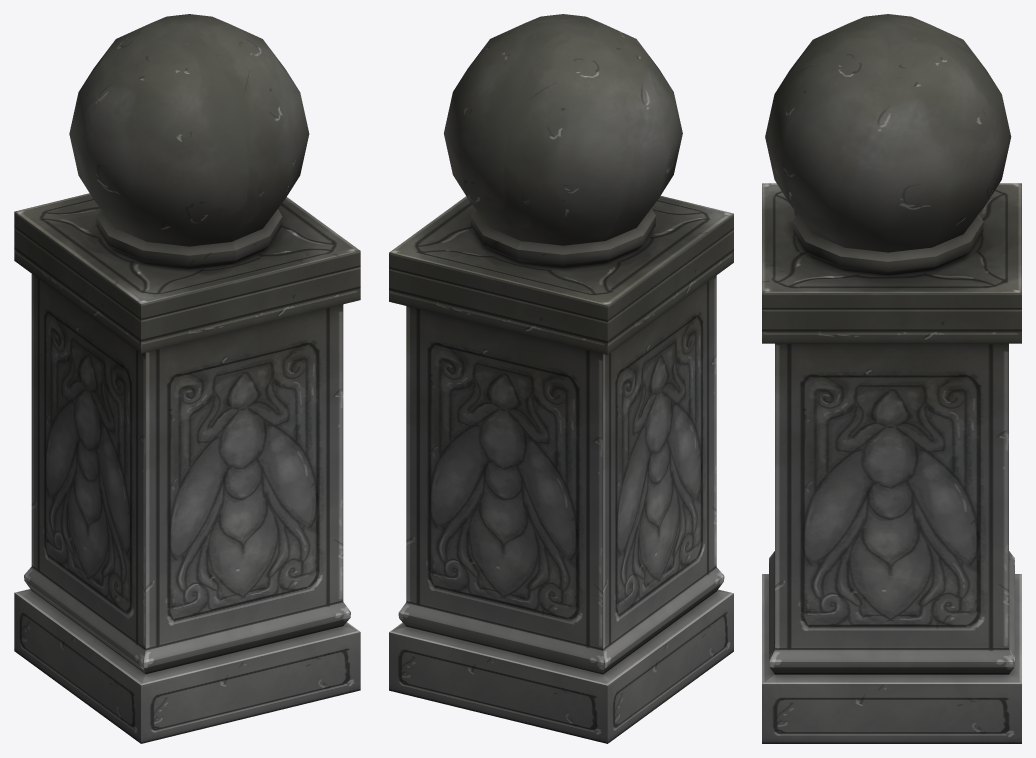
File: wall_pillar.fbx
The picture shows the model from 3 angles, left to right: view 1: azimuth 30°, elevation 25°; view 2: azimuth 150°, elevation 25°; view 3: azimuth 270°, elevation 25°; orthographic projection. The views are drawn at different scales.
Parts seen in each view (by area): view 1: Sphere.003; view 2: Sphere.003; view 3: Sphere.003.
Boxes of the visible parts, x1,y1,x2,y2 form: Sphere.003: (14, 14, 360, 743); Sphere.003: (389, 14, 733, 743); Sphere.003: (762, 14, 1021, 743).
Bounding box in the file's own units: 0.5 × 1.41 × 0.5.
